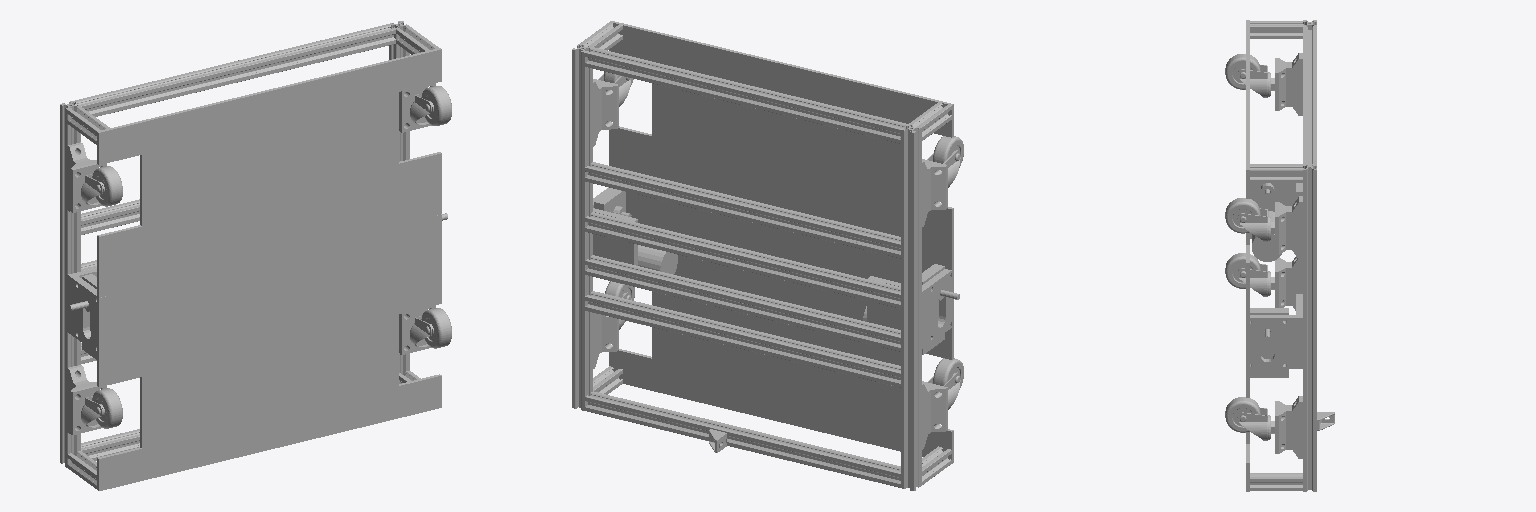
robot.urdf — DiffDrive_update:
<?xml version="1.0" encoding="utf-8"?>
<!-- This URDF was automatically created by SolidWorks to URDF Exporter! Originally created by [author] ([email redacted]) 
     Commit Version: 1.6.0-4-g7f85cfe  Build Version: 1.6.7995.38578
     For more information, please see http://wiki.ros.org/sw_urdf_exporter -->
<robot
  name="DiffDrive_update">
  <link
    name="base_link">
    <inertial>
      <origin
        xyz="0.41 0.22101 0.38486"
        rpy="0 0 0" />
      <mass
        value="4.2012" />
      <inertia
        ixx="0.033885"
        ixy="2.7531E-07"
        ixz="-6.1274E-08"
        iyy="0.077237"
        iyz="1.5364E-06"
        izz="0.044195" />
    </inertial>
    <visual>
      <origin
        xyz="0 0 0"
        rpy="0 0 0" />
      <geometry>
        <mesh
          filename="package://DiffDrive_update/meshes/base_link.STL" />
      </geometry>
      <material
        name="">
        <color
          rgba="0.75294 0.75294 0.75294 1" />
      </material>
    </visual>
    <collision>
      <origin
        xyz="0 0 0"
        rpy="0 0 0" />
      <geometry>
        <mesh
          filename="package://DiffDrive_update/meshes/base_link.STL" />
      </geometry>
    </collision>
  </link>
  <link
    name="Wheel_left">
    <inertial>
      <origin
        xyz="0 0.025726 0"
        rpy="0 0 0" />
      <mass
        value="0.24047" />
      <inertia
        ixx="0.00024514"
        ixy="5.1275E-20"
        ixz="0"
        iyy="0.00045262"
        iyz="-5.5784E-20"
        izz="0.00024514" />
    </inertial>
    <visual>
      <origin
        xyz="0 0 0"
        rpy="0 0 0" />
      <geometry>
        <mesh
          filename="package://DiffDrive_update/meshes/Wheel_left.STL" />
      </geometry>
      <material
        name="">
        <color
          rgba="0.79216 0.81961 0.93333 1" />
      </material>
    </visual>
    <collision>
      <origin
        xyz="0 0 0"
        rpy="0 0 0" />
      <geometry>
        <mesh
          filename="package://DiffDrive_update/meshes/Wheel_left.STL" />
      </geometry>
    </collision>
  </link>
  <joint
    name="Joint_left"
    type="continuous">
    <origin
      xyz="-0.249999999999933 0.0305000000006919 -0.000999999999839241"
      rpy="3.14159265358979 0.795882153060524 -1.5707963267949" />
    <parent
      link="base_link" />
    <child
      link="Wheel_left" />
    <axis
      xyz="0 1 0" />
  </joint>
  <link
    name="Wheel_right">
    <inertial>
      <origin
        xyz="5.5511E-17 0.025726 5.5511E-17"
        rpy="0 0 0" />
      <mass
        value="0.24047" />
      <inertia
        ixx="0.00024514"
        ixy="4.2686E-21"
        ixz="-6.7763E-21"
        iyy="0.00045262"
        iyz="1.5997E-20"
        izz="0.00024514" />
    </inertial>
    <visual>
      <origin
        xyz="0 0 0"
        rpy="0 0 0" />
      <geometry>
        <mesh
          filename="package://DiffDrive_update/meshes/Wheel_right.STL" />
      </geometry>
      <material
        name="">
        <color
          rgba="0.79216 0.81961 0.93333 1" />
      </material>
    </visual>
    <collision>
      <origin
        xyz="0 0 0"
        rpy="0 0 0" />
      <geometry>
        <mesh
          filename="package://DiffDrive_update/meshes/Wheel_right.STL" />
      </geometry>
    </collision>
  </link>
  <joint
    name="Joint_right"
    type="continuous">
    <origin
      xyz="0.250000000000088 0.0305000000006919 -0.000999999999862333"
      rpy="3.14159265358979 1.03367076842044 1.5707963267949" />
    <parent
      link="base_link" />
    <child
      link="Wheel_right" />
    <axis
      xyz="0 1 0" />
  </joint>
</robot>

--- Render facts (derived) ---
The picture shows the robot from 3 angles, left to right: view 1: azimuth 30°, elevation 25°; view 2: azimuth 150°, elevation 25°; view 3: azimuth 270°, elevation 25°; orthographic projection.
Robot: DiffDrive_update — 3 links, 2 joints (2 continuous); root link base_link; default pose: all joints at 0.
Links seen in each view (by area): view 1: base_link; view 2: base_link; view 3: base_link.
Link boxes in pixels (<box>): base_link: <box>60,21,451,490</box>; base_link: <box>572,21,963,490</box>; base_link: <box>1225,20,1334,491</box>.
Size in the robot's own frame: 0.5499 by 0.154 by 0.5 metres.
1 mesh visuals loaded from 3 distinct referenced files (1 binary STL); not drawn: 2 (reference not matched to a file when rendering).